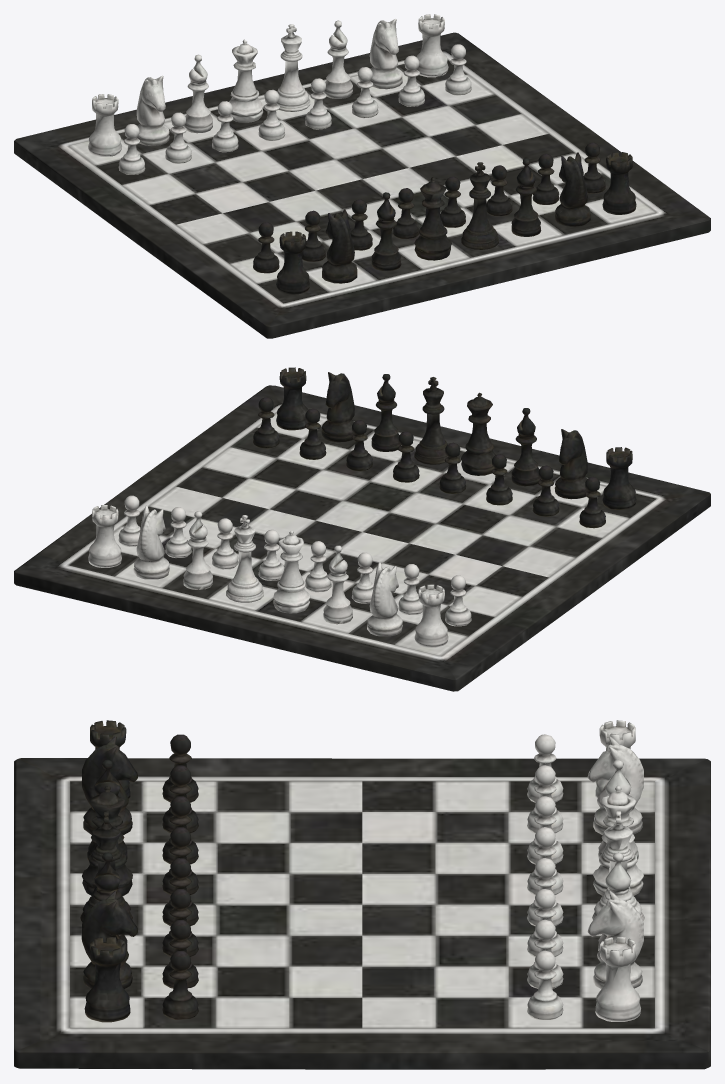
File: th_schach.glb
The picture shows the model from 3 angles, top to bottom: view 1: azimuth 30°, elevation 25°; view 2: azimuth 150°, elevation 25°; view 3: azimuth 270°, elevation 25°; orthographic projection. The views are drawn at different scales.
Parts seen in each view (by area): view 1: board, piece_queen_black, piece_knight_black_01, piece_knight_black_02, piece_queen_white, piece_knight_white_02, piece_knight_white_01, piece_king_black, piece_king_white, piece_rook_black_01, piece_rook_black_02, piece_rook_white_02 (+21 smaller); view 2: board, piece_queen_white, piece_knight_white_01, piece_knight_white_02, piece_queen_black, piece_knight_black_02, piece_knight_black_01, piece_king_white, piece_king_black, piece_rook_white_02, piece_rook_black_01, piece_rook_white_01 (+21 smaller); view 3: board, piece_rook_black_02, piece_rook_white_01, piece_knight_white_01, piece_knight_black_02, piece_knight_black_01, piece_knight_white_02, piece_queen_white, piece_queen_black, piece_pawn_white_01, piece_pawn_black_08, piece_king_white (+21 smaller).
Boxes of the visible parts, x1,y1,x2,y2 form: board: [14, 32, 710, 338]; piece_queen_black: [414, 177, 451, 260]; piece_knight_black_01: [322, 209, 357, 283]; piece_knight_black_02: [555, 152, 590, 226]; piece_queen_white: [229, 39, 263, 122]; piece_knight_white_02: [136, 75, 169, 145]; piece_knight_white_01: [369, 19, 402, 89]; piece_king_black: [461, 162, 498, 249]; piece_king_white: [276, 24, 310, 111]; piece_rook_black_01: [276, 231, 309, 294]; piece_rook_black_02: [602, 152, 636, 214]; piece_rook_white_02: [88, 94, 121, 156]; board: [14, 385, 710, 691]; piece_queen_white: [273, 530, 310, 613]; piece_knight_white_01: [133, 505, 169, 579]; piece_knight_white_02: [367, 562, 402, 636]; piece_queen_black: [461, 392, 495, 475]; piece_knight_black_02: [321, 372, 354, 442]; piece_knight_black_01: [554, 429, 587, 499]; piece_king_white: [226, 515, 263, 602]; piece_king_black: [414, 377, 448, 464]; piece_rook_white_02: [414, 584, 448, 647]; piece_rook_black_01: [602, 447, 636, 509]; piece_rook_white_01: [88, 505, 121, 567]; board: [14, 758, 710, 1069]; piece_rook_black_02: [84, 936, 130, 1022]; piece_rook_white_01: [595, 936, 640, 1021]; piece_knight_white_01: [587, 891, 643, 988]; piece_knight_black_02: [81, 891, 137, 988]; piece_knight_black_01: [81, 736, 137, 834]; piece_knight_white_02: [587, 736, 643, 834]; piece_queen_white: [593, 785, 643, 895]; piece_queen_black: [82, 786, 132, 896]; piece_pawn_white_01: [527, 950, 563, 1019]; piece_pawn_black_08: [162, 951, 198, 1019]; piece_king_white: [592, 811, 644, 921].
Size of the model in its own units: 0.5526 by 0.112 by 0.5519.
Materials: 3 (3 with a texture image).
